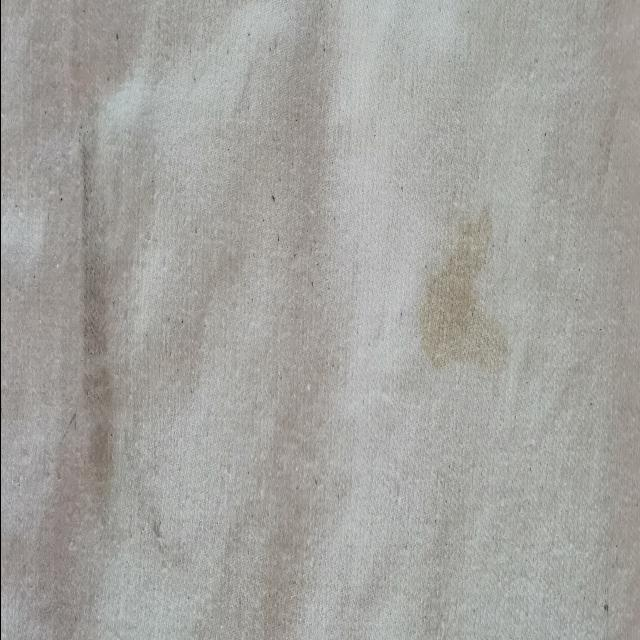taaaches: (70, 89, 126, 522), (410, 189, 512, 389), (138, 486, 186, 598)
